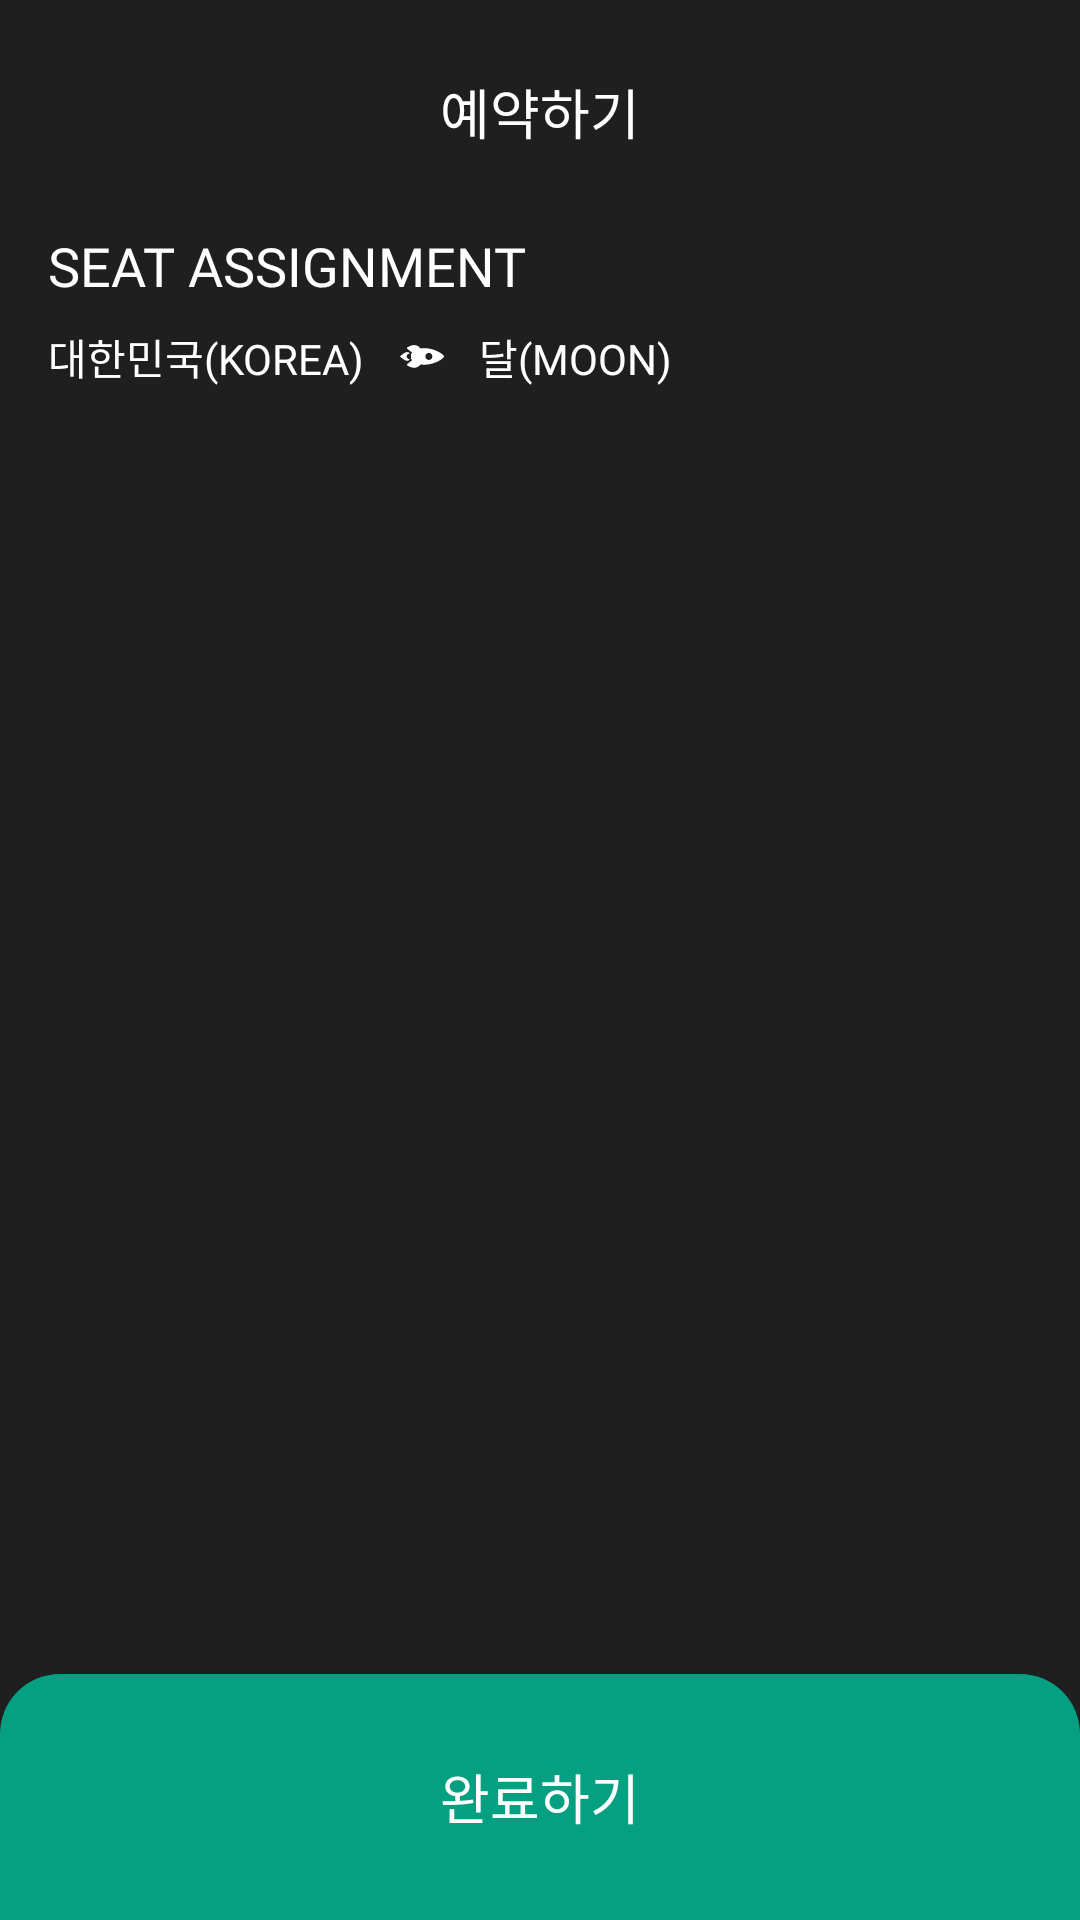

Named icons in this screenshot (1080x1920) and their centers, point (x, y):
rocket: point (422, 356)
